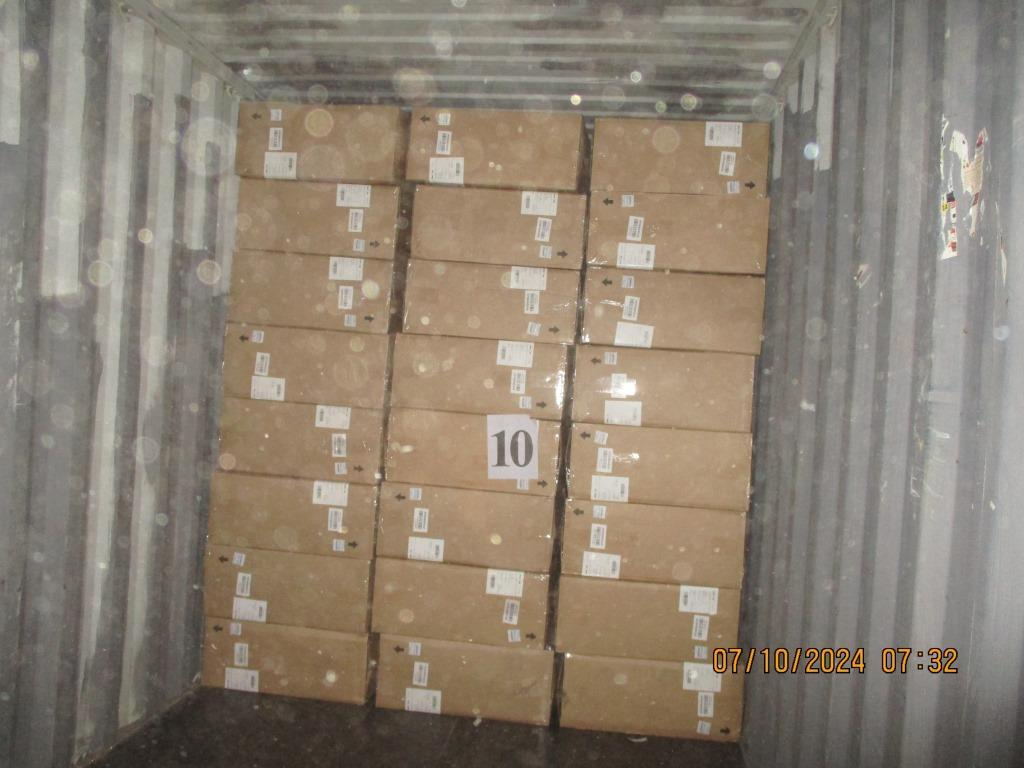carton: (374, 481, 554, 572), (374, 634, 554, 725), (372, 557, 549, 649), (568, 345, 755, 432), (560, 652, 742, 741), (560, 499, 745, 586), (566, 422, 750, 509), (580, 267, 764, 354), (554, 576, 740, 662), (382, 407, 562, 494), (584, 189, 768, 273), (405, 106, 586, 191), (390, 332, 568, 417), (401, 258, 578, 343), (409, 184, 586, 268), (202, 543, 370, 631), (206, 470, 377, 556), (201, 618, 369, 704), (217, 397, 384, 483), (235, 101, 407, 184), (590, 117, 768, 196), (227, 249, 394, 333), (222, 323, 390, 406), (236, 177, 400, 257)
